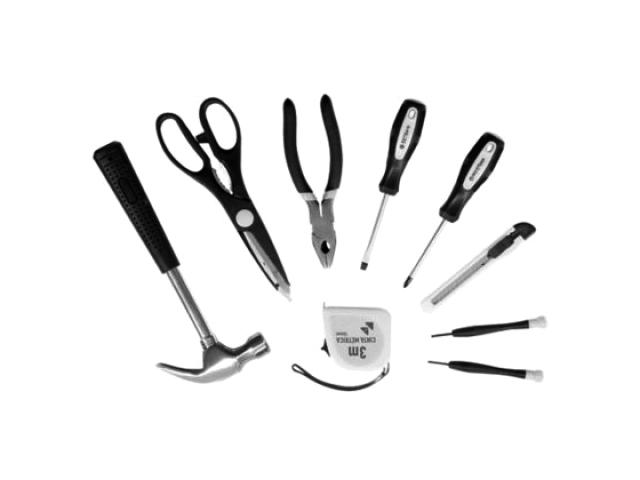Hammer: (94, 143, 268, 384)
Pliers: (284, 96, 342, 269)
Screwdriver: (404, 134, 504, 288), (361, 101, 425, 270)
Tape measure: (291, 308, 390, 391)
Utility knife: (421, 223, 535, 314)
